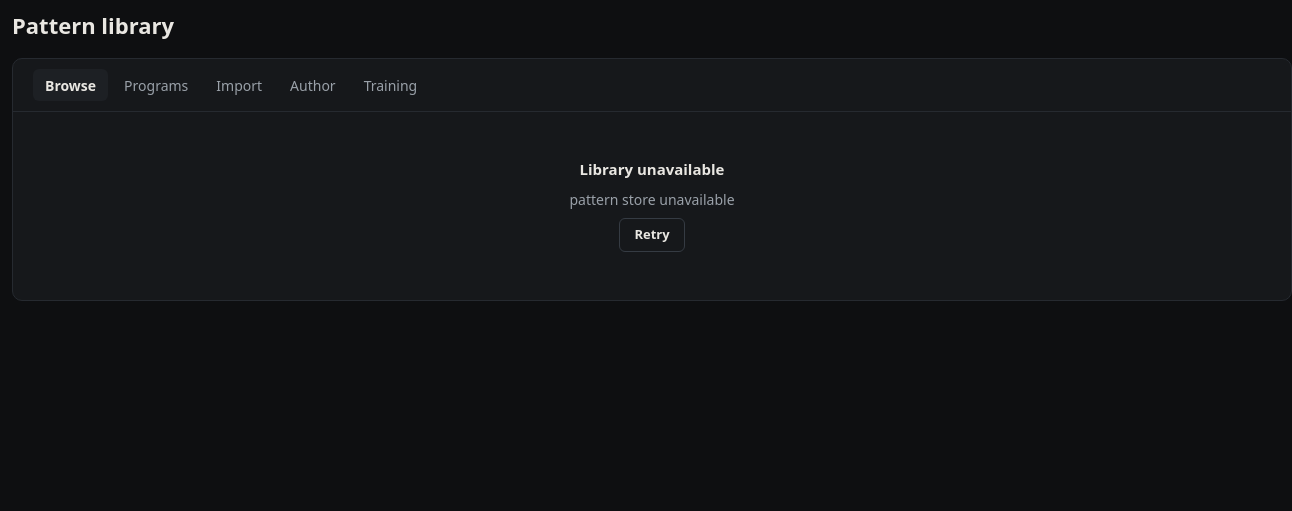
Scenario: PatternLibraryRoute › shows a recoverable storage error instead of a false empty catalog
This screenshot has width=1292, height=511.
Expected: the message shows "pattern store unavailable", x1=569 y1=190 x2=734 y2=209
Click the button "Retry": click(652, 235) x1=619 y1=218 x2=685 y2=252
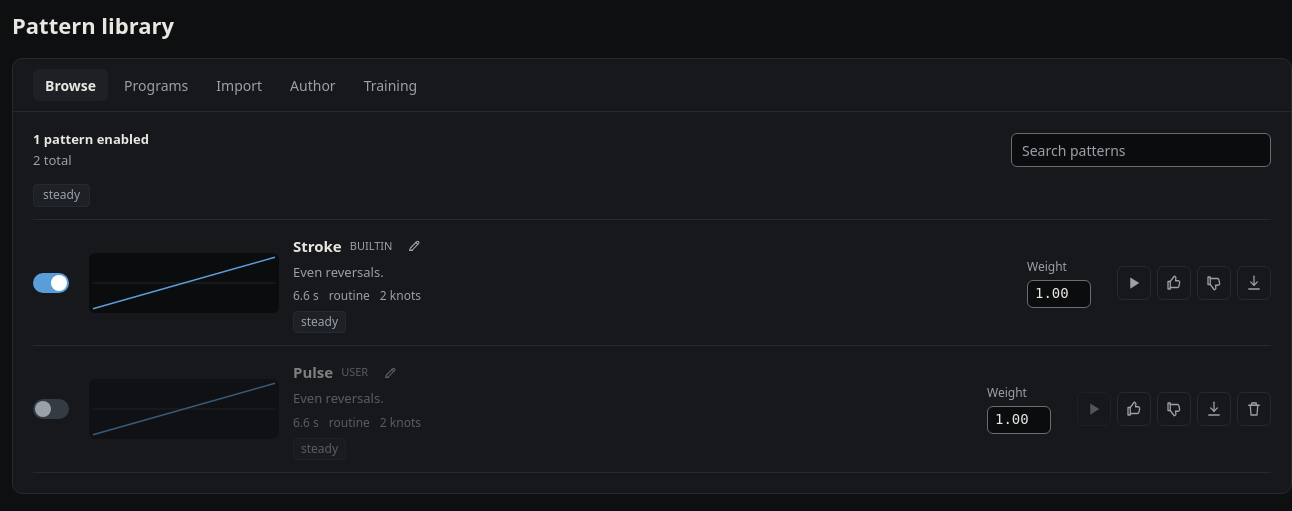
Now the heading "Stroke" is shown, box x1=293 y1=234 x2=342 y2=257
